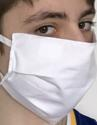with_mask: (1, 1, 97, 125)
